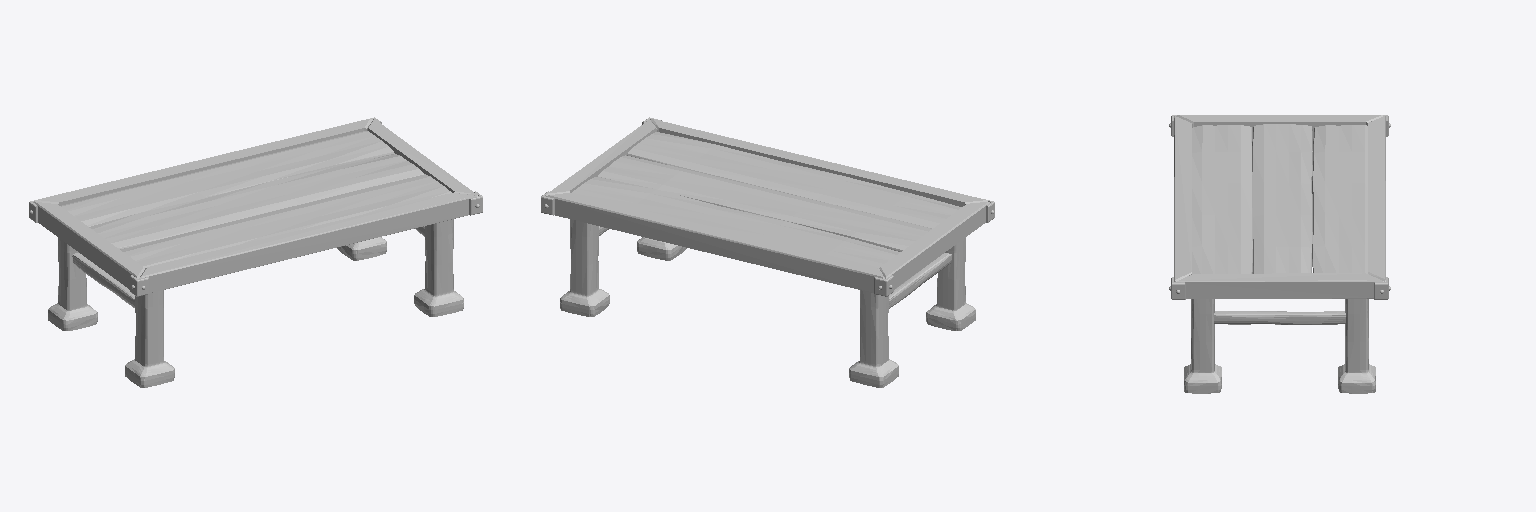
The model's file is table.obj.
3 views of the same model, side by side, from view 1: azimuth 30°, elevation 25°; view 2: azimuth 150°, elevation 25°; view 3: azimuth 270°, elevation 25° (orthographic).
Visible parts, largest first — view 1: IronFrame_low, WoodenLeg_low, WoodenPlank_low, WoodenPlank.002_low, WoodenPlank.001_low, SupportBeam_low, CornerProtector_low; view 2: IronFrame_low, WoodenPlank.001_low, WoodenLeg_low, WoodenPlank_low, WoodenPlank.002_low, SupportBeam_low, CornerProtector_low; view 3: IronFrame_low, WoodenPlank.001_low, WoodenPlank_low, WoodenPlank.002_low, WoodenLeg_low, SupportBeam_low, CornerProtector_low.
Boxes of the visible parts, box(x1,y1,x2,y2) form: IronFrame_low: box(34, 118, 477, 292); WoodenLeg_low: box(48, 219, 463, 387); WoodenPlank_low: box(89, 154, 423, 249); WoodenPlank.002_low: box(61, 131, 394, 226); WoodenPlank.001_low: box(121, 174, 451, 267); SupportBeam_low: box(72, 226, 424, 307); CornerProtector_low: box(29, 117, 482, 296); IronFrame_low: box(546, 119, 989, 292); WoodenPlank.001_low: box(627, 132, 961, 228); WoodenLeg_low: box(560, 219, 975, 387); WoodenPlank_low: box(598, 155, 931, 251); WoodenPlank.002_low: box(572, 177, 899, 267); SupportBeam_low: box(599, 226, 951, 308); CornerProtector_low: box(541, 117, 994, 296); IronFrame_low: box(1174, 115, 1385, 298); WoodenPlank.001_low: box(1192, 125, 1252, 273); WoodenPlank_low: box(1252, 124, 1312, 273); WoodenPlank.002_low: box(1312, 125, 1367, 273); WoodenLeg_low: box(1184, 299, 1375, 393); SupportBeam_low: box(1214, 311, 1345, 324); CornerProtector_low: box(1171, 115, 1388, 299).
Size of the model in its own units: 4.12 by 1.32 by 2.26.